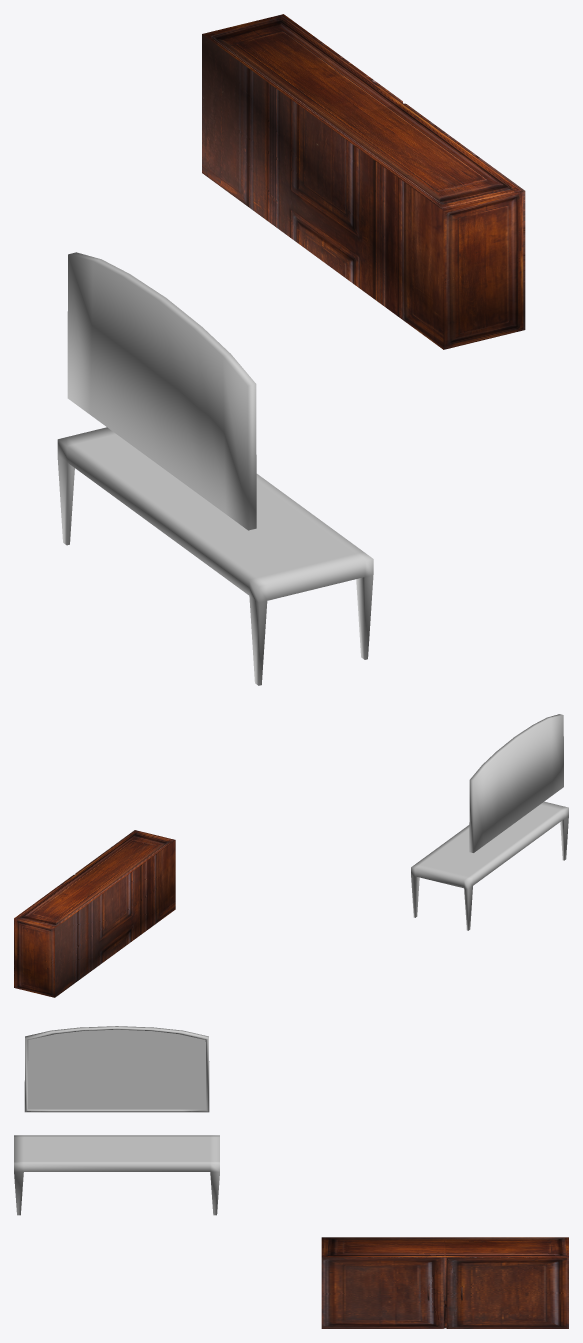
The model's file is HallApto.fbx.
The picture shows the model from 3 angles, top to bottom: view 1: azimuth 30°, elevation 25°; view 2: azimuth 150°, elevation 25°; view 3: azimuth 270°, elevation 25°; orthographic projection. The views are drawn at different scales.
Parts seen in each view (by area): view 1: Table_02, MarkMirror_01, Table_01; view 2: Table_02, MarkMirror_01, Table_01; view 3: Table_02, Mirror_02, Table_01, MarkMirror_01.
Part boxes in pixels (left/top/right/bottom): Table_02: left=202, top=14, right=525, bottom=349; MarkMirror_01: left=67, top=252, right=256, bottom=530; Table_01: left=57, top=427, right=373, bottom=685; Table_02: left=14, top=830, right=175, bottom=997; MarkMirror_01: left=469, top=714, right=563, bottom=852; Table_01: left=411, top=801, right=568, bottom=930; Table_02: left=321, top=1237, right=568, bottom=1328; Mirror_02: left=28, top=1029, right=206, bottom=1109; Table_01: left=14, top=1135, right=219, bottom=1215; MarkMirror_01: left=24, top=1026, right=209, bottom=1112.
Size of the model in its own units: 410 by 216 by 676.
